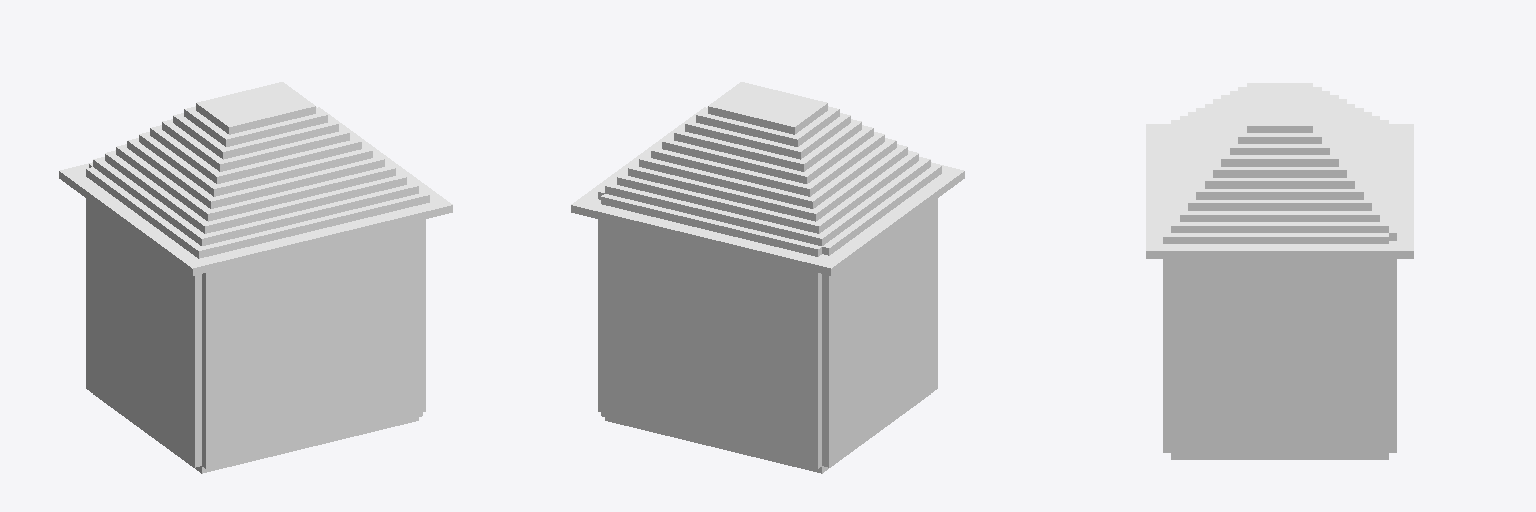
Rendered from EasyEnemy.obj.
3 renders of one model, left to right at view 1: azimuth 30°, elevation 25°; view 2: azimuth 150°, elevation 25°; view 3: azimuth 270°, elevation 25°, orthographic.
Parts seen in each view (by area): view 1: object 1; view 2: object 1; view 3: object 1.
Boxes of the visible parts, box(x1,y1,x2,y2) form: object 1: box(59, 82, 452, 473); object 1: box(571, 82, 964, 473); object 1: box(1146, 83, 1413, 459).
Size of the model in its own units: 3.6 by 4 by 3.2.